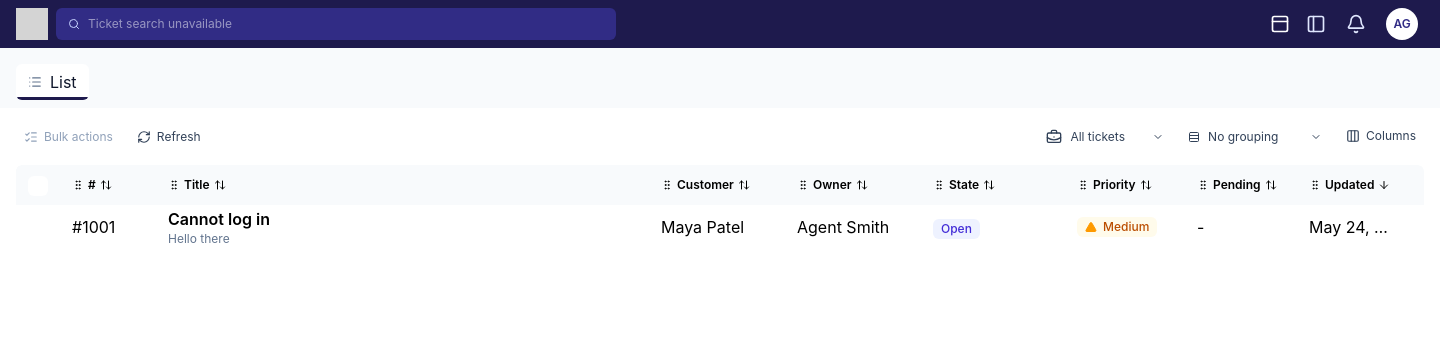
Test: TicketWorkspace provider grouping › loads provider-backed priority groups and paginates a bucket independently
Step 1. Click the dropdown named "Group tickets by" → [1255, 136], box [1180,124,1330,148]
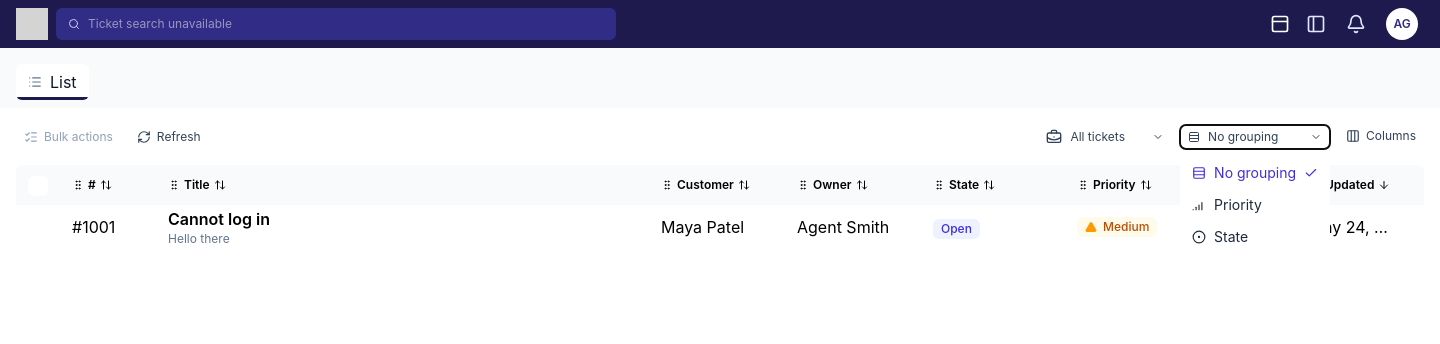
Step 2. Click the option "Priority" → [1255, 204], box [1184,188,1326,220]
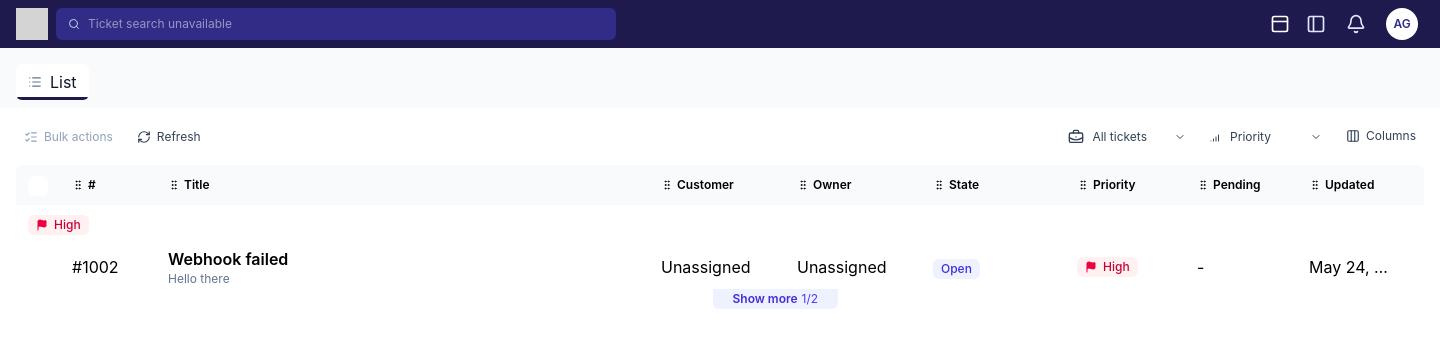
Result: the text "Webhook failed" is shown at [168,249,288,269]
Result: the cell named "High group" is shown at [16,205,1409,245]
Step 3. Click the button with aria-label "Show more High tickets (1/2)" → [775, 299], box [712,289,838,309]
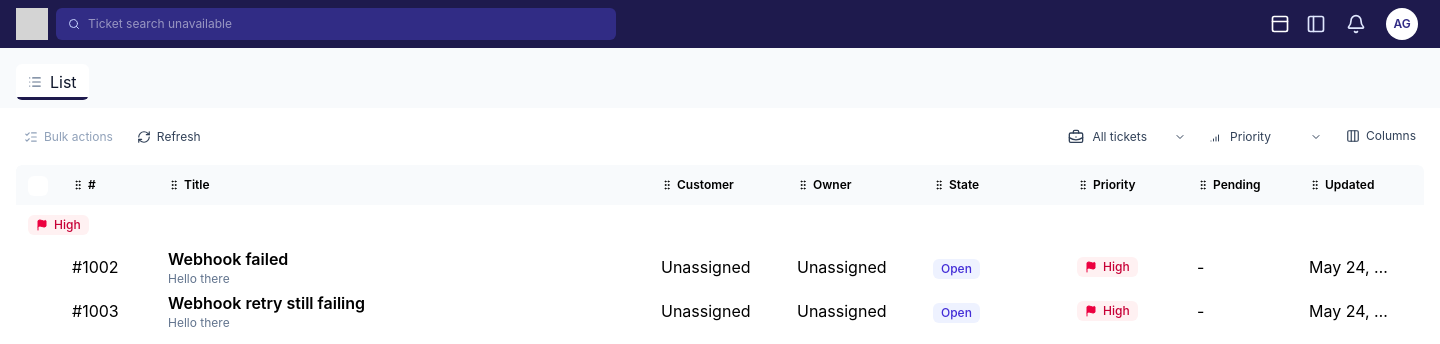
Result: the cell named "High group" is shown at [16,205,1409,245]
Result: the text "Webhook retry still failing" is shown at [168,293,365,313]
